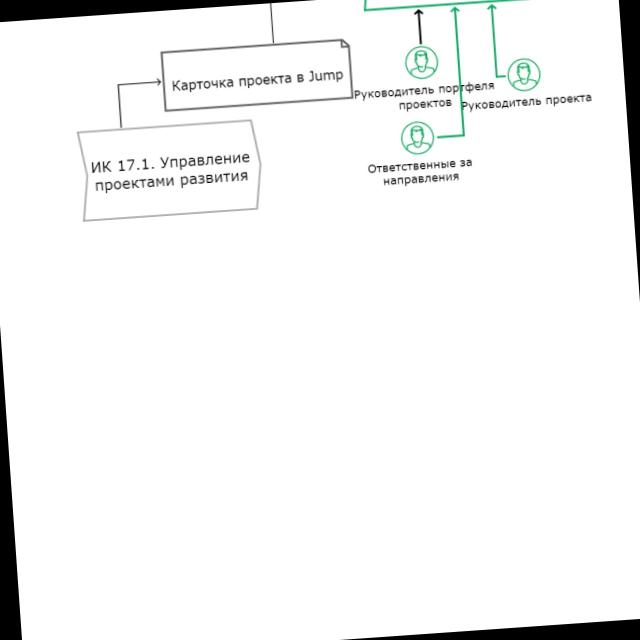arrow: (438, 7, 465, 138), (118, 78, 161, 127), (488, 5, 505, 78), (414, 10, 422, 44)
circle: (508, 59, 540, 91), (402, 122, 434, 154), (406, 47, 438, 79)
rectangle: (75, 118, 264, 222), (161, 39, 353, 111)
text_region: (354, 78, 496, 115), (367, 156, 473, 189), (462, 90, 594, 114)
